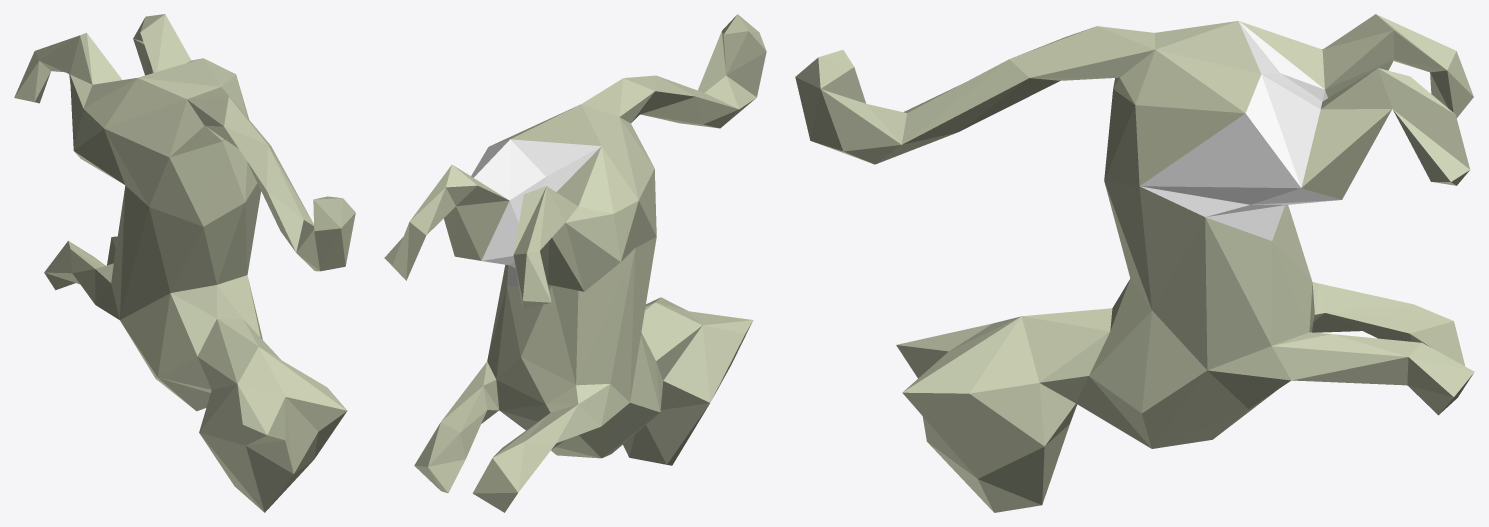
Rendered from montage2.obj.
3 views of the same model, side by side, from view 1: azimuth 30°, elevation 25°; view 2: azimuth 150°, elevation 25°; view 3: azimuth 270°, elevation 25° (orthographic). The views are drawn at different scales.
Visible parts, largest first — view 1: STL object_default, STL object_m2, STL object_m1, STL object_m3; view 2: STL object_default, STL object_m1, STL object_m2, STL object_m4, STL object_m3, STL object_m5; view 3: STL object_default, STL object_m1, STL object_m2, STL object_m5, STL object_m3, STL object_m4.
Part boxes in pixels (x1,y1,x2,y2): STL object_default: (14,14,355,512); STL object_m2: (104,58,257,226); STL object_m1: (111,183,261,319); STL object_m3: (120,293,193,408); STL object_default: (384,14,766,512); STL object_m1: (487,237,656,401); STL object_m2: (490,104,656,247); STL object_m4: (481,139,601,286); STL object_m3: (602,336,660,457); STL object_m5: (471,139,510,281); STL object_default: (795,14,1474,512); STL object_m1: (1104,181,1312,370); STL object_m2: (1104,21,1261,186); STL object_m5: (1140,74,1341,240); STL object_m3: (1142,310,1248,448); STL object_m4: (1238,21,1327,101).
Size of the model in its own units: 30.91 by 72.14 by 90.71.
